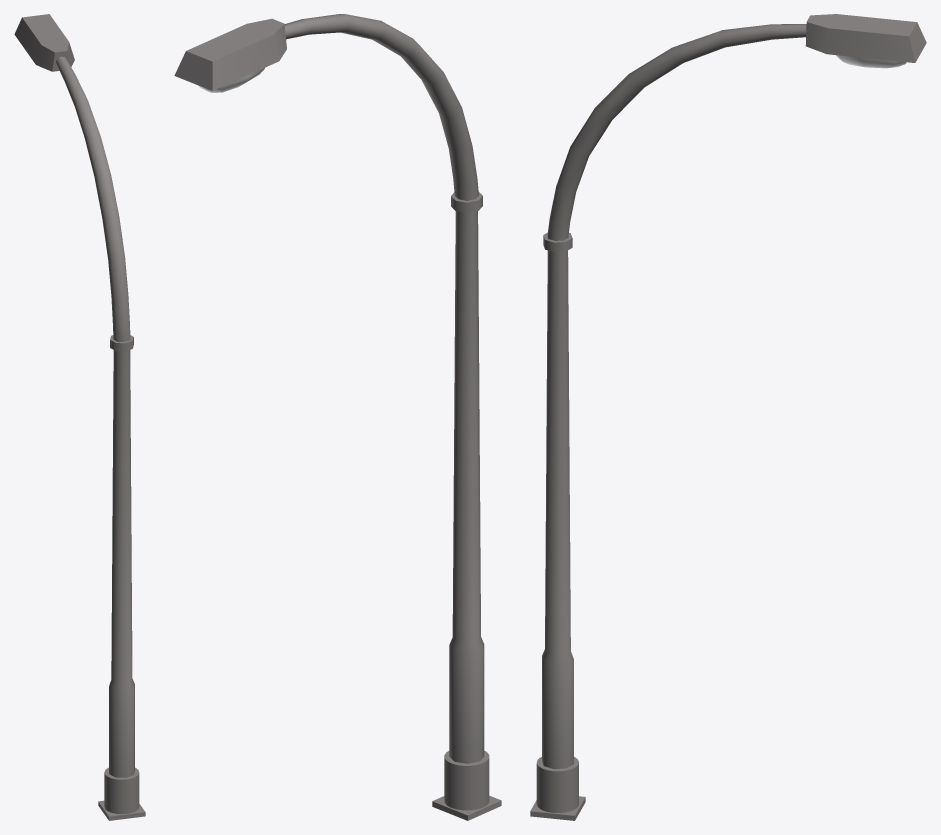
Rendered from streetlights.002_lev1.glb.
The picture shows the model from 3 angles, left to right: view 1: azimuth 30°, elevation 25°; view 2: azimuth 150°, elevation 25°; view 3: azimuth 270°, elevation 25°; orthographic projection. The views are drawn at different scales.
Visible parts, largest first — view 1: streetlights.002_lev1; view 2: streetlights.002_lev1; view 3: streetlights.002_lev1.
Part boxes in pixels (x1,y1,x2,y2): streetlights.002_lev1: (14, 14, 145, 820); streetlights.002_lev1: (174, 14, 501, 820); streetlights.002_lev1: (530, 14, 926, 820).
Size of the model in its own units: 0.7994 by 5.2 by 2.29.
Materials: 2 (1 with a texture image).
